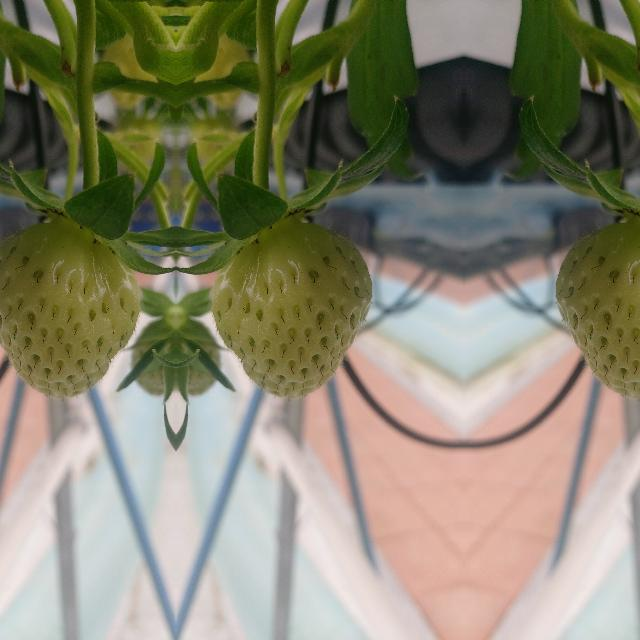Health_25: (210, 220, 370, 398), (0, 219, 140, 398), (555, 219, 640, 398)
